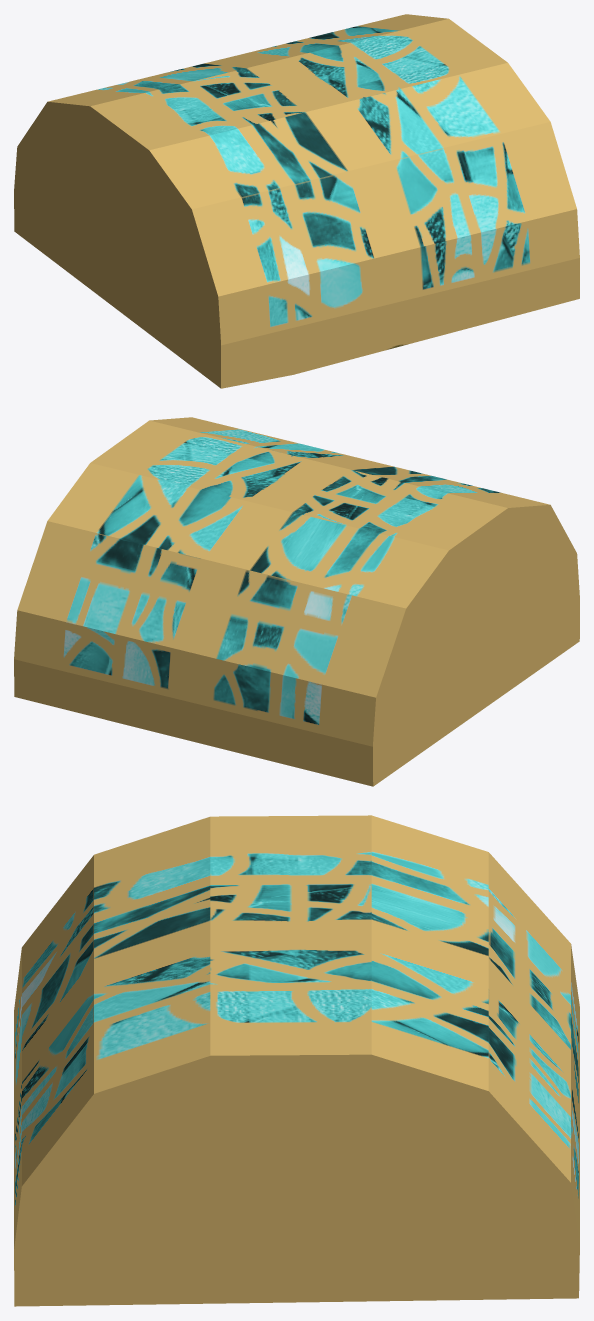
Rendered from chestTop3.glb.
3 views of the same model, one above another, from view 1: azimuth 30°, elevation 25°; view 2: azimuth 150°, elevation 25°; view 3: azimuth 270°, elevation 25° (orthographic). The views are drawn at different scales.
Parts seen in each view (by area): view 1: chest01.001; view 2: chest01.001; view 3: chest01.001.
Part boxes in pixels (x1,y1,x2,y2): chest01.001: [14, 14, 579, 388]; chest01.001: [14, 417, 579, 786]; chest01.001: [14, 815, 579, 1306].
Size of the model in its own units: 1 by 0.5074 by 1.
1 material, 1 textured.
